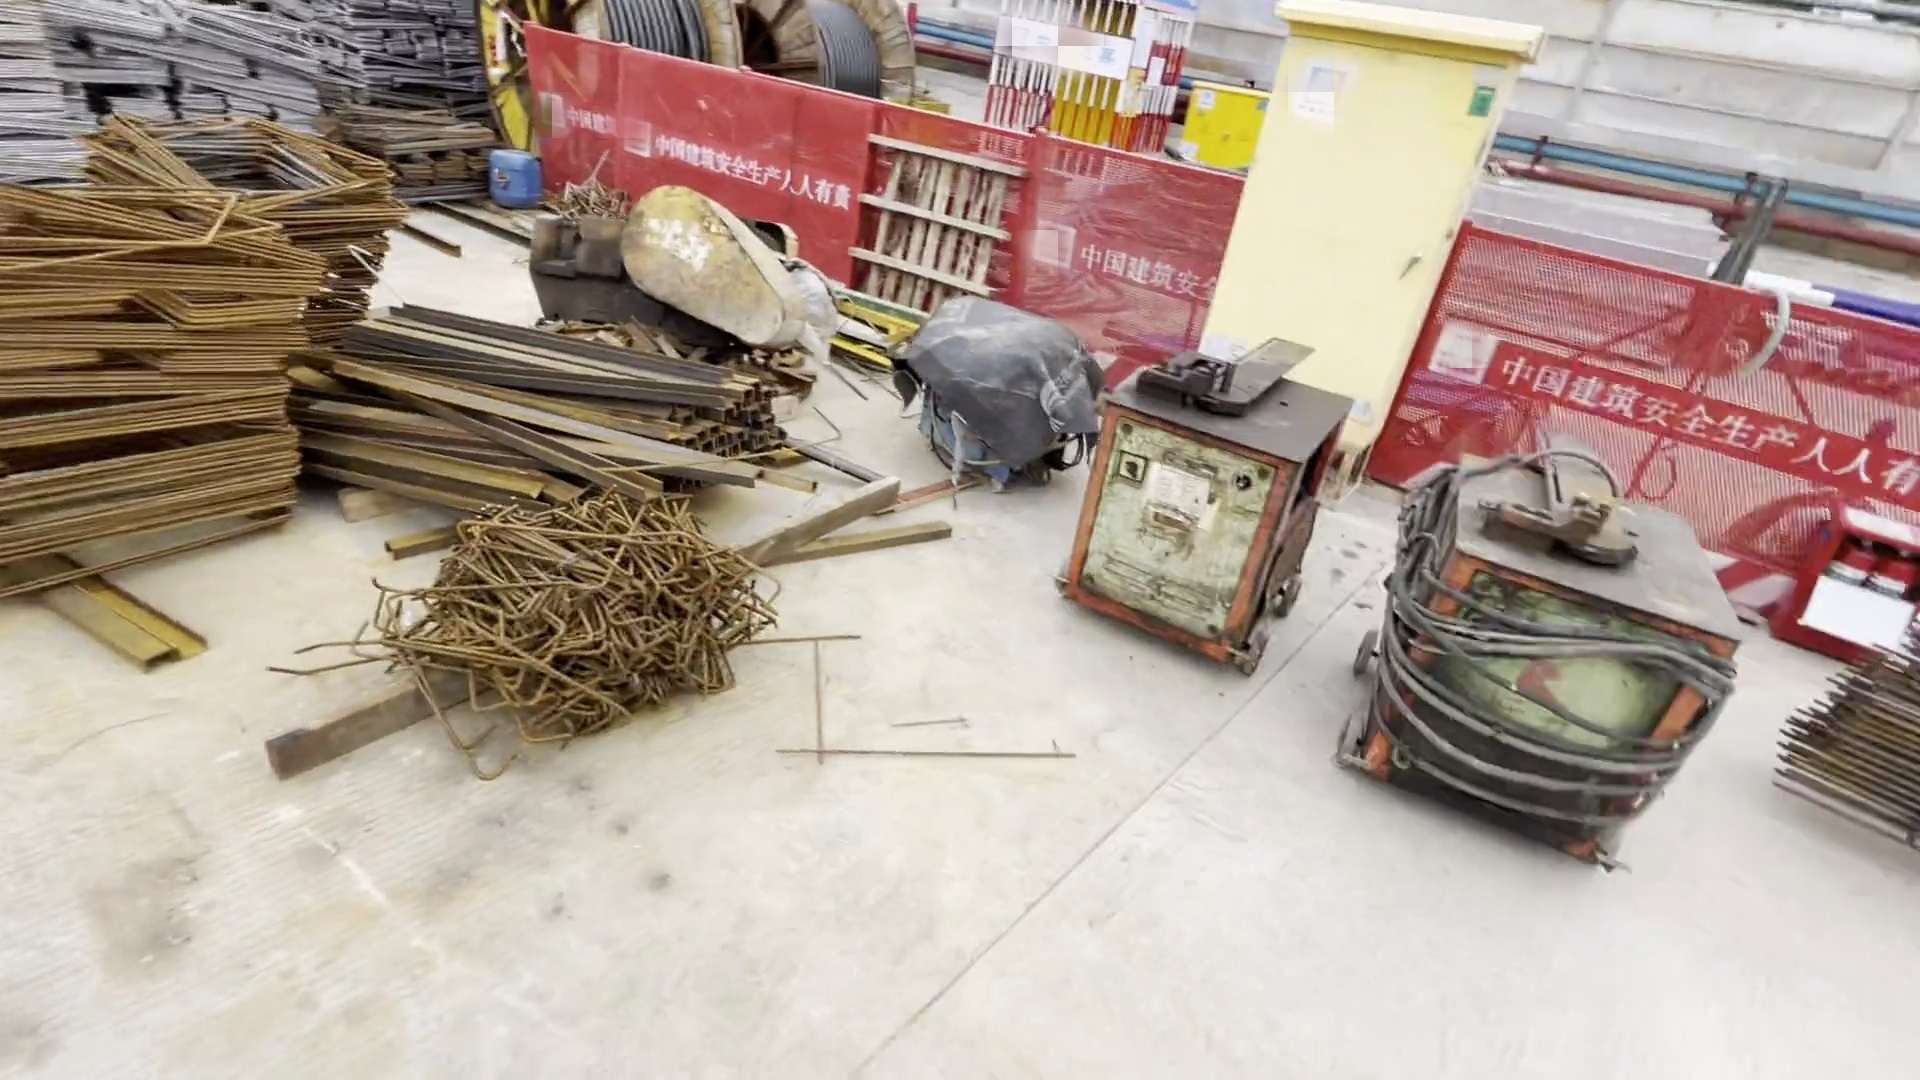ebox: (1236, 13, 1560, 471)
fence: (527, 30, 1224, 430), (1391, 216, 1920, 646)
